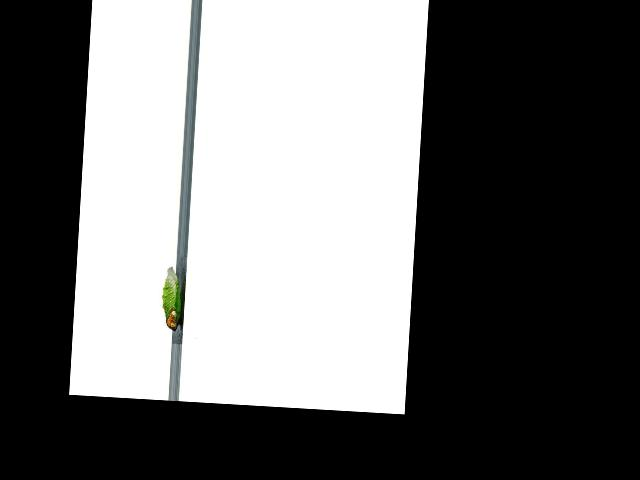lettuce: (157, 265, 186, 334)
